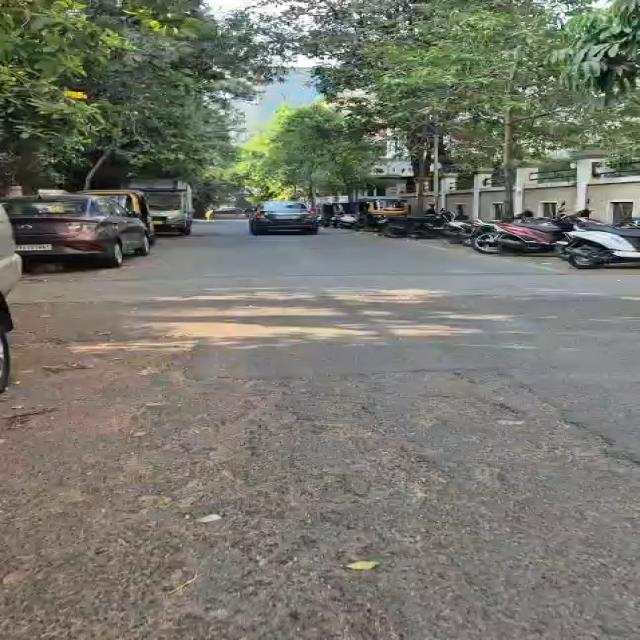bench: (0, 195, 149, 267), (78, 189, 156, 245), (0, 205, 21, 392), (134, 183, 192, 235), (250, 202, 318, 234)
bike: (472, 211, 589, 253), (564, 225, 639, 268), (433, 134, 440, 211), (331, 213, 357, 228)
